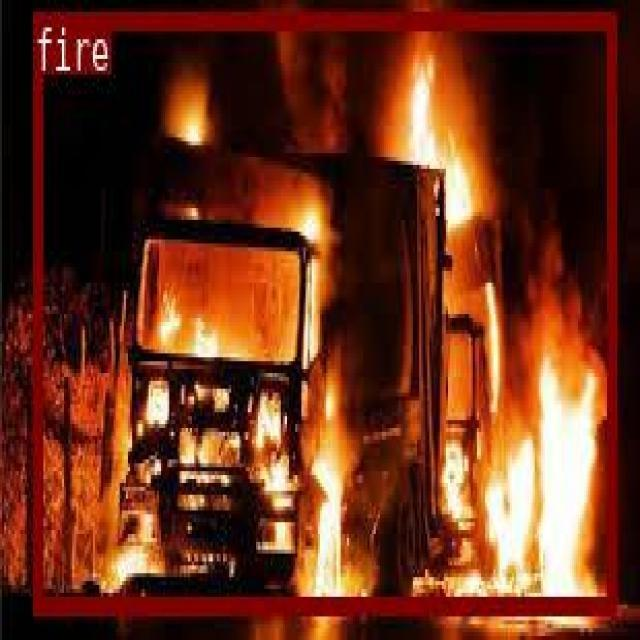fire: (32, 12, 615, 610)
